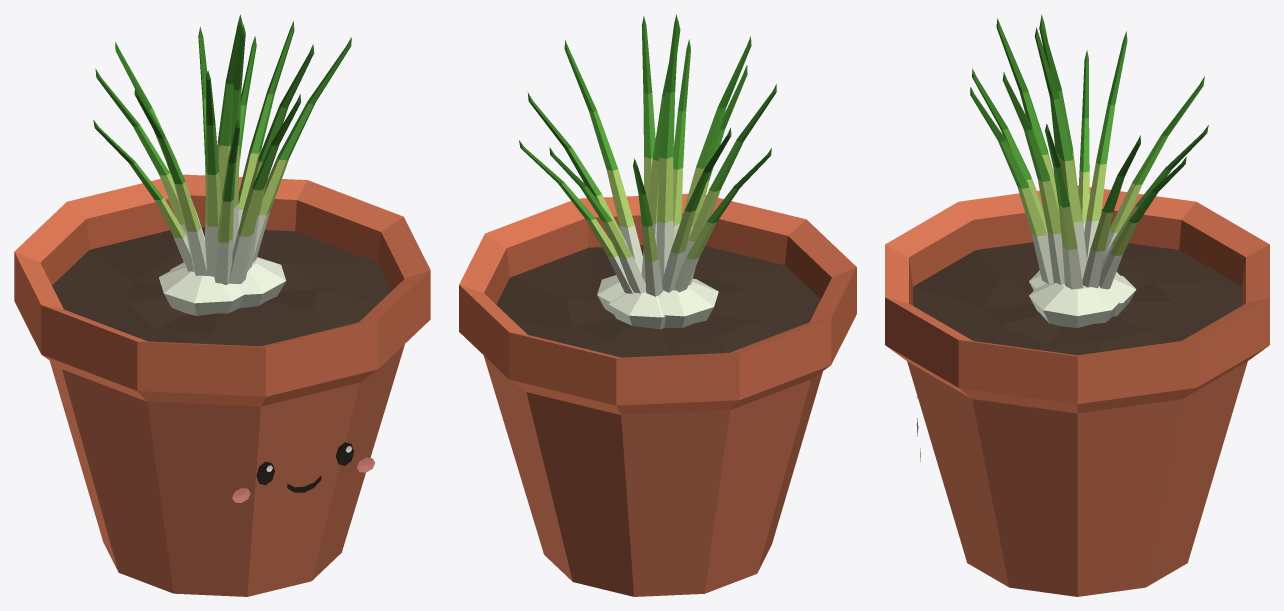
The model's file is onion_4.glb.
3 renders of one model, left to right at view 1: azimuth 30°, elevation 25°; view 2: azimuth 150°, elevation 25°; view 3: azimuth 270°, elevation 25°, orthographic. The views are drawn at different scales.
Parts seen in each view (by area): view 1: Onion_Stage4_Harvest; view 2: Onion_Stage4_Harvest; view 3: Onion_Stage4_Harvest.
Boxes of the visible parts, x1=… form: Onion_Stage4_Harvest: x1=14, y1=14, x2=430, y2=596; Onion_Stage4_Harvest: x1=459, y1=14, x2=856, y2=596; Onion_Stage4_Harvest: x1=885, y1=14, x2=1269, y2=596.
Bounding box in the file's own units: 1.92 × 2.77 × 1.83.
